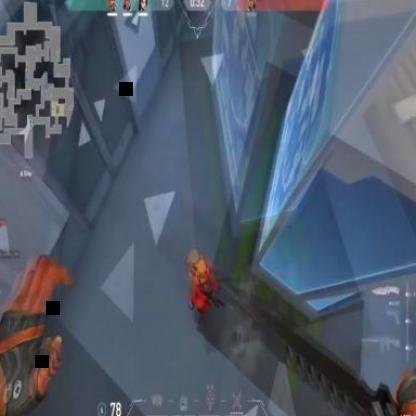enemy: (186, 252, 220, 319)
enemy_head: (196, 258, 206, 276)
